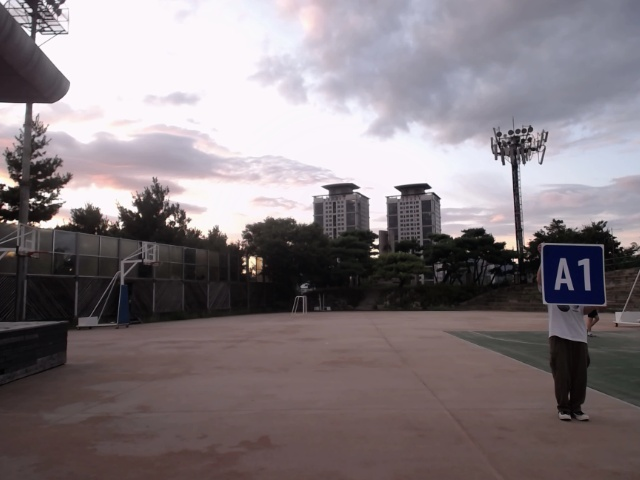delivery_a1: (542, 244, 606, 305)
